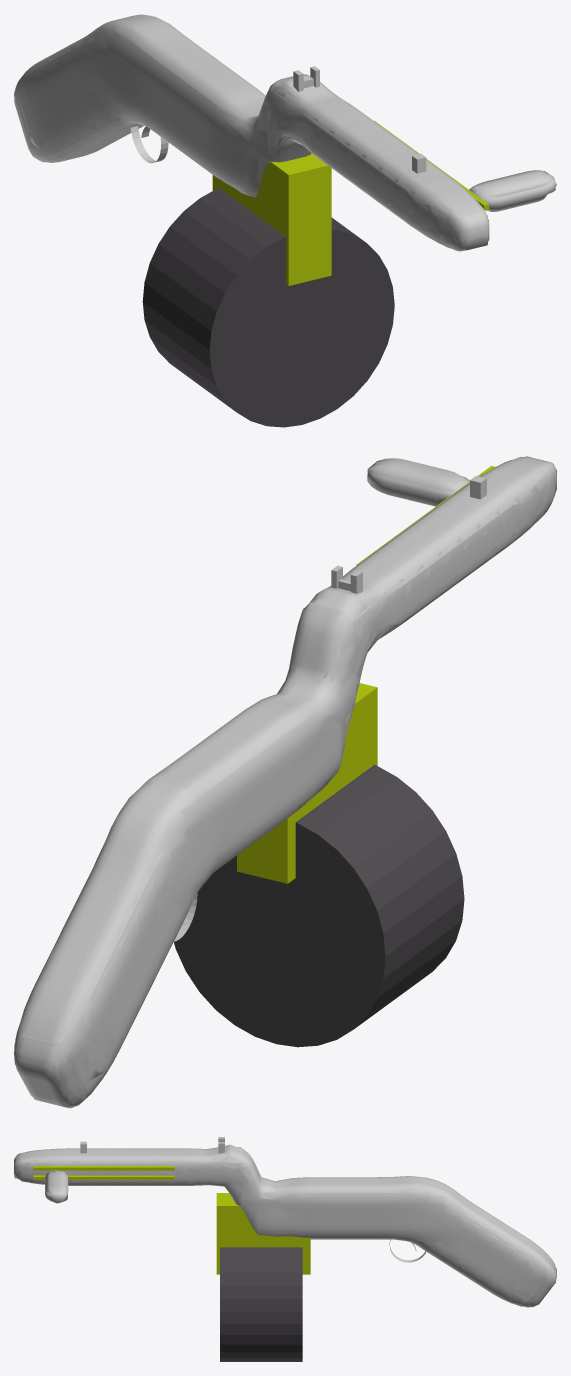
3 views of the same model, one above another, from view 1: azimuth 30°, elevation 25°; view 2: azimuth 150°, elevation 25°; view 3: azimuth 270°, elevation 25° (orthographic). The views are drawn at different scales.
Visible parts, largest first — view 1: Окружность.002, МСфера, МСфера.001, Куб, Окружность.003; view 2: МСфера, Окружность.002, МСфера.001, Куб; view 3: МСфера, МСфера.001, Окружность.002, Куб, Куб.001_Куб.003, Куб.002_Куб.004.
Boxes of the visible parts, box(x1,y1,x2,y2) form: Окружность.002: box(142, 188, 394, 427); МСфера: box(14, 14, 555, 251); МСфера.001: box(14, 36, 556, 250); Куб: box(212, 153, 331, 285); Окружность.003: box(130, 126, 168, 163); МСфера: box(14, 457, 556, 1105); Окружность.002: box(174, 765, 464, 1047); МСфера.001: box(14, 456, 556, 1108); Куб: box(237, 683, 377, 883); МСфера: box(14, 1147, 556, 1307); МСфера.001: box(14, 1144, 556, 1307); Окружность.002: box(220, 1247, 302, 1361); Куб: box(216, 1193, 310, 1274); Куб.001_Куб.003: box(33, 1166, 174, 1170); Куб.002_Куб.004: box(33, 1175, 174, 1179).
Size of the model in its own units: 4.79 by 7.65 by 17.35.
